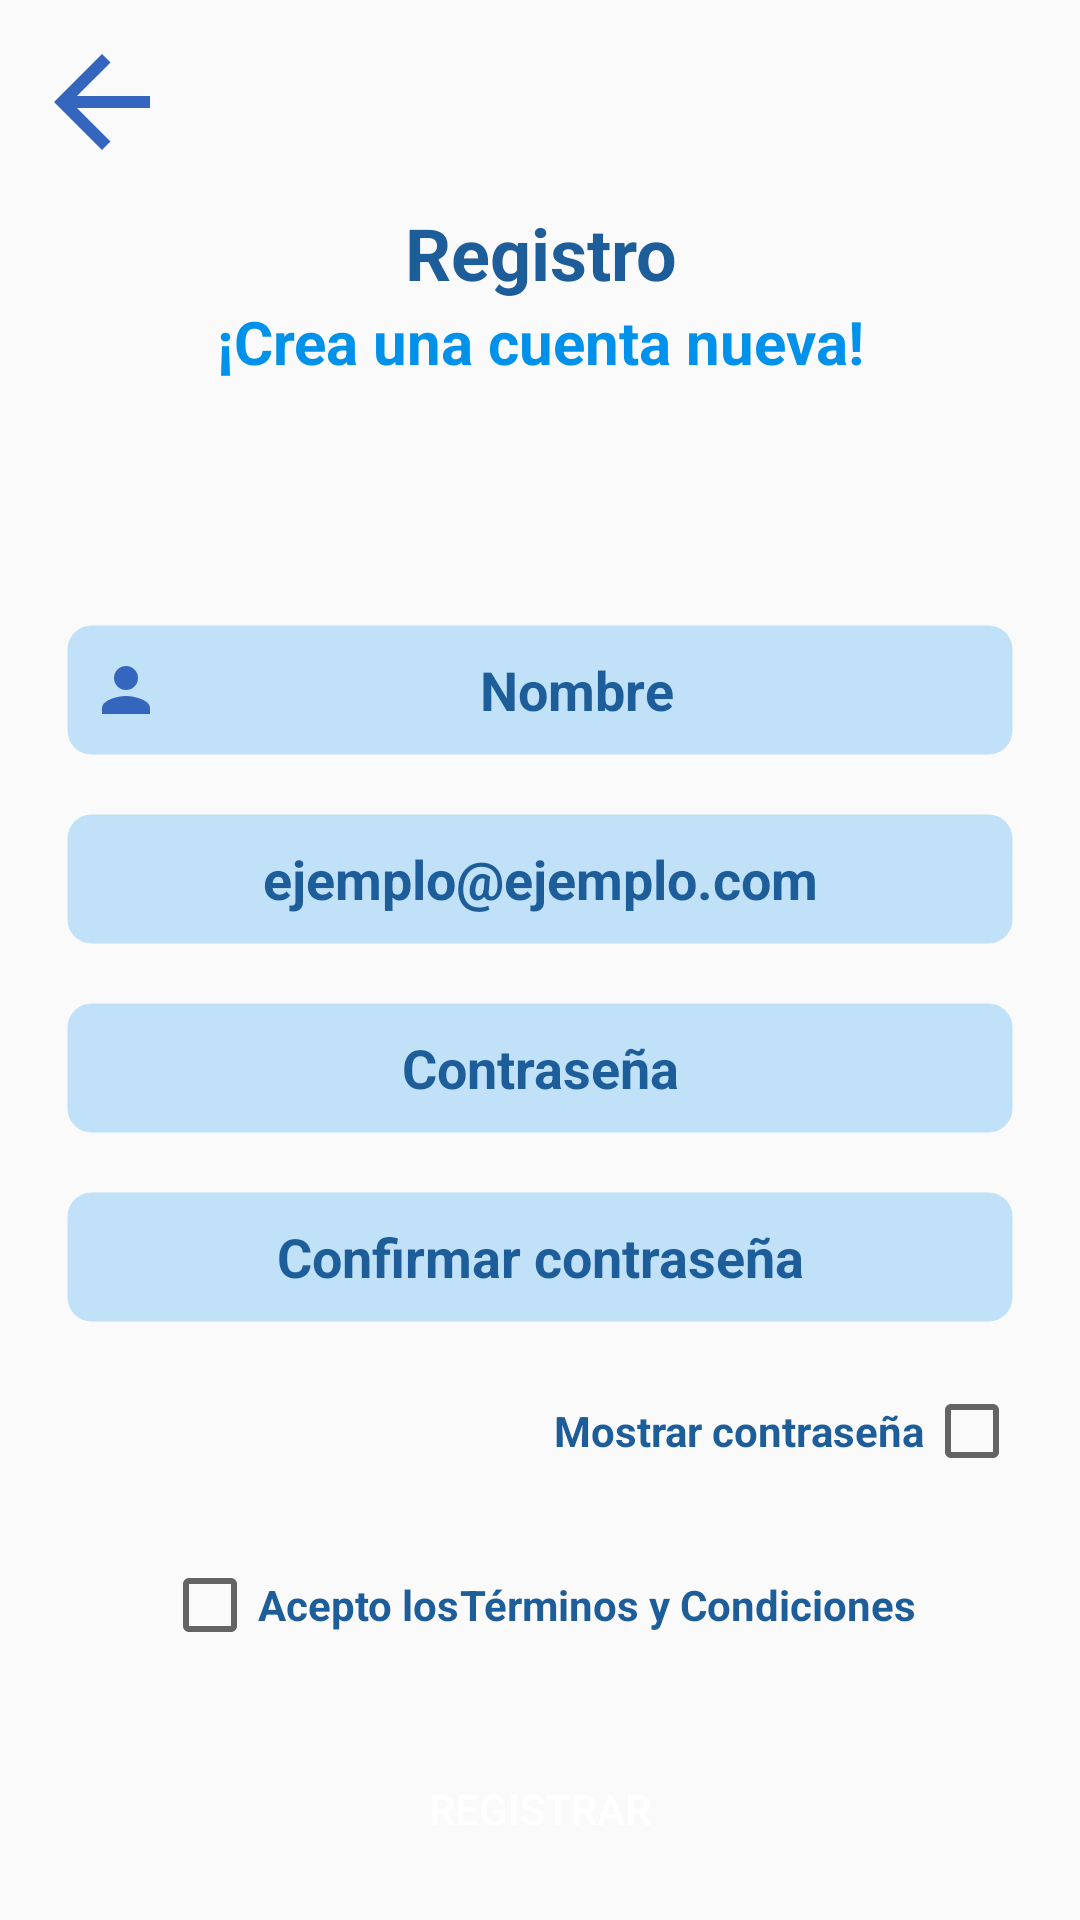

Icon click points for this 1080w x 1920h phone screenshot, format (x=x, y=y):
Back arrow icon: (x=102, y=102)
